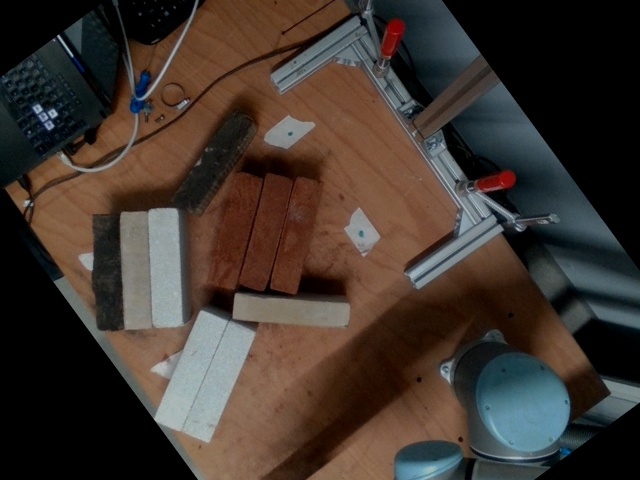brick-side: (170, 109, 250, 211), (183, 324, 251, 441), (156, 312, 224, 429), (270, 180, 321, 292), (213, 172, 264, 284), (240, 177, 290, 289), (149, 207, 178, 325), (120, 212, 148, 329), (93, 214, 120, 331), (234, 297, 346, 325)
